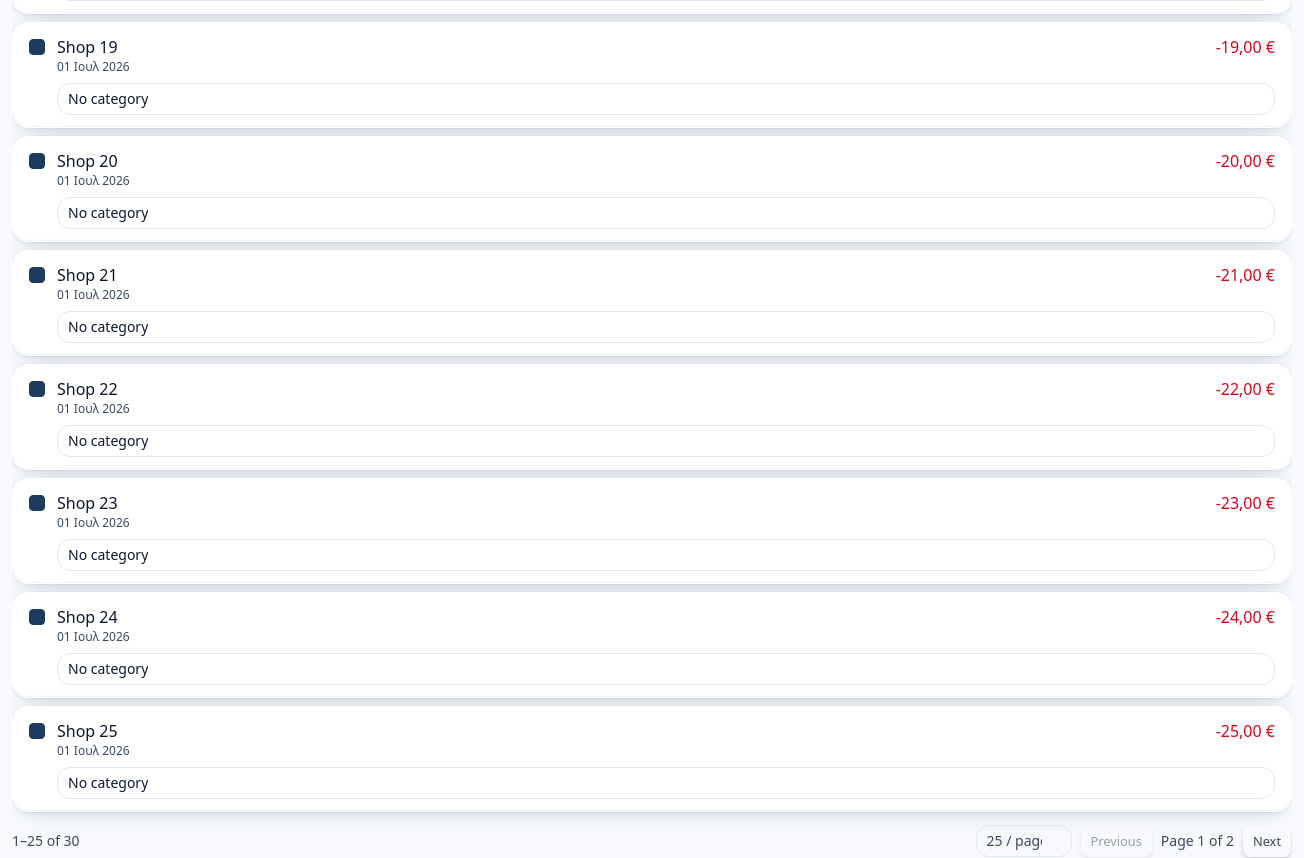
ImportPreviewRows › shows one page of rows at a time and pages forward and back
This screenshot has width=1304, height=858.
(page scrolled)
Expected: the text "1–25 of 30" is shown, [12,831,80,851]
Expected: the text "Shop 25" is shown, [57,720,118,742]
Click the button "Next": (1267, 841) [1242,824,1292,857]
(page scrolled)
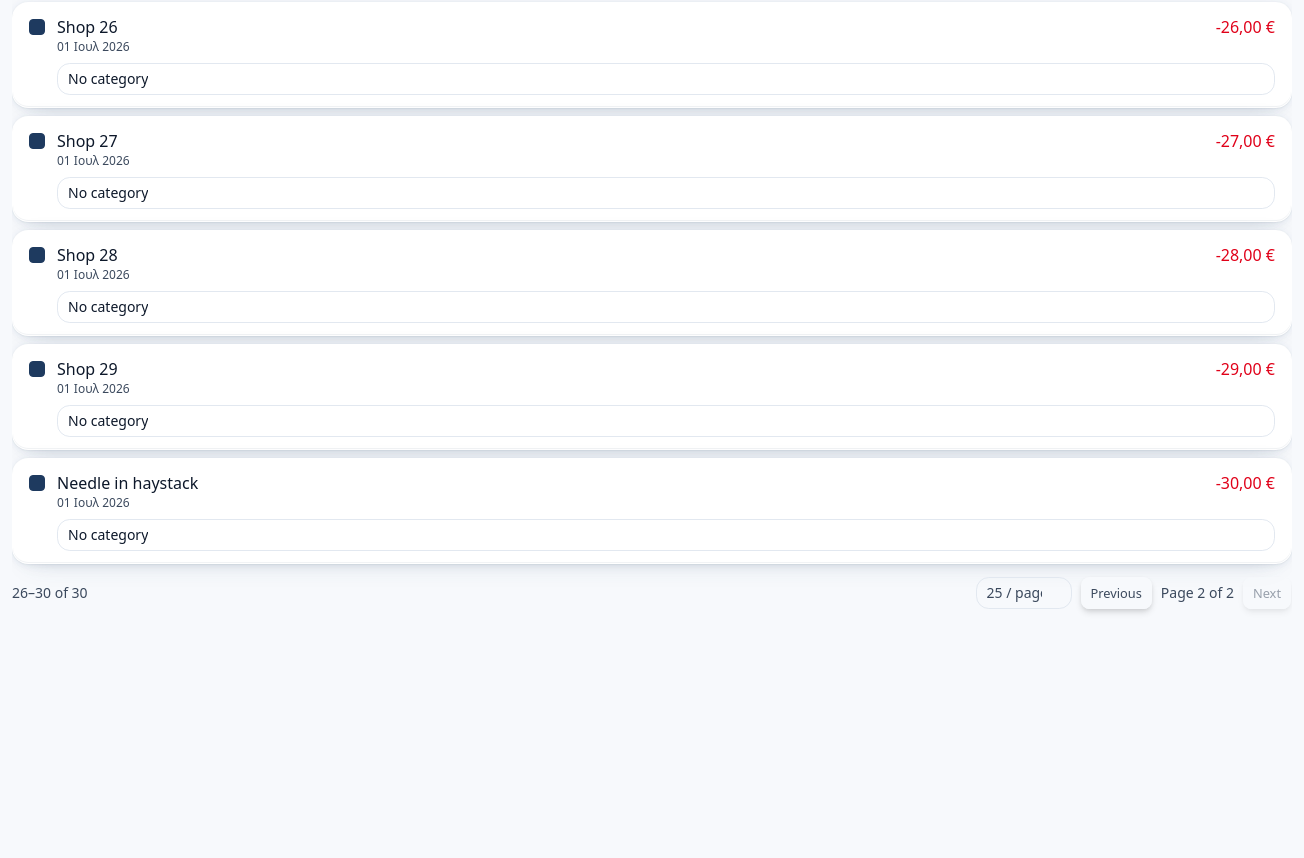
Now the text "26–30 of 30" is shown, box [12,583,88,603]
Now the text "Shop 26" is shown, box [57,16,118,38]
Now the button "Next" is disabled, box [1242,576,1292,610]
Click the button "Previous": (1116, 593) [1080,576,1153,610]
(page scrolled)
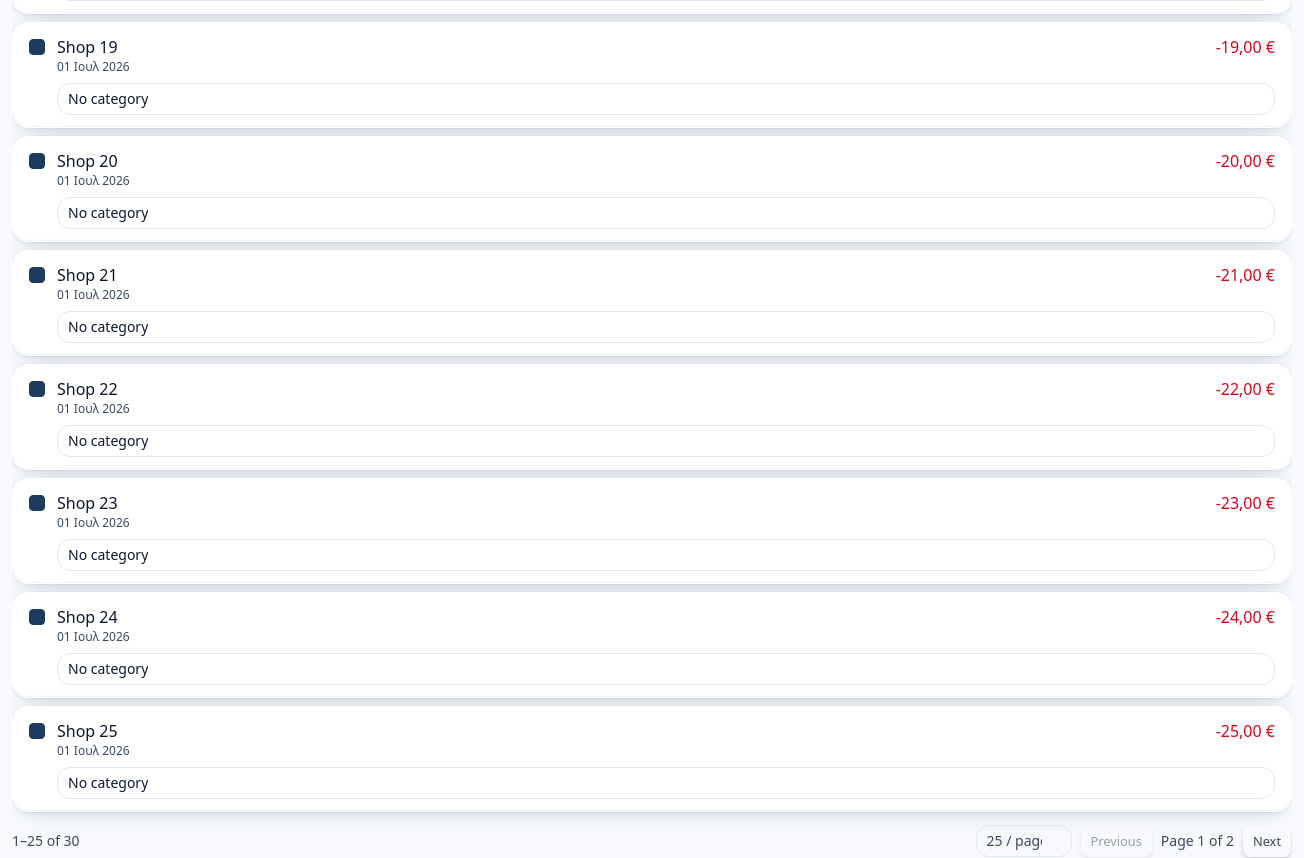
Now the text "1–25 of 30" is shown, box [12,831,80,851]
